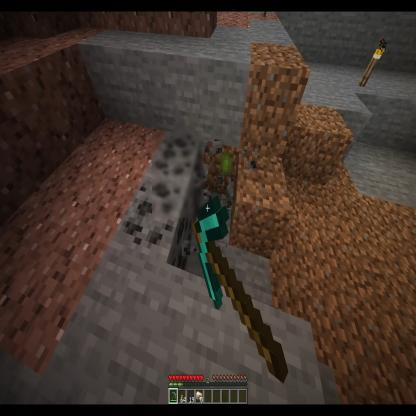coal ore: (121, 175, 190, 274), (152, 131, 204, 218)
